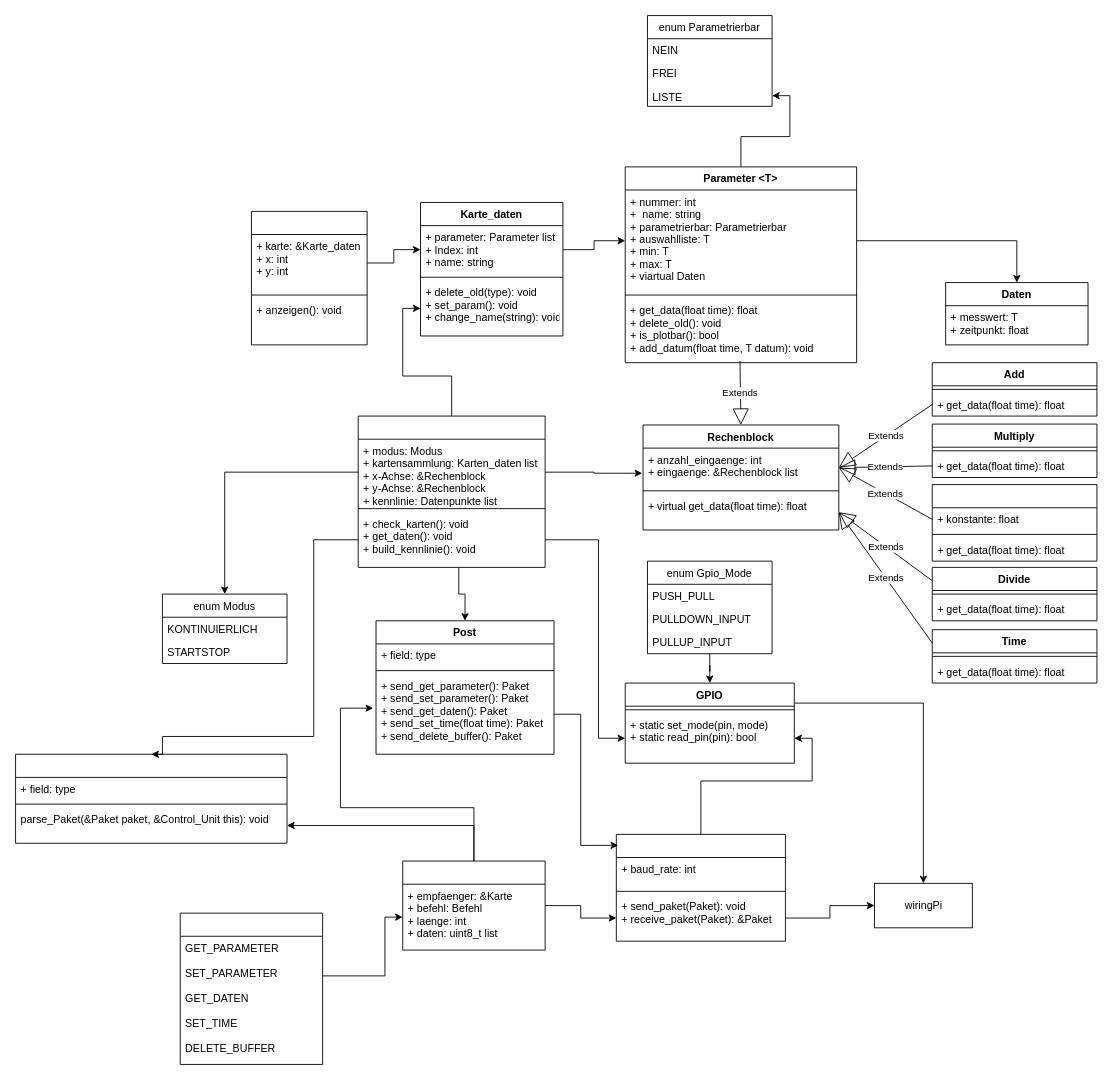
The diagram is 1113 pixels wide and 1082 high, and some of its shapes have lost their labels. The shapes that lost their labels are listed below. From the top down, each one's box as (x1, y1, x2, y2) in pixels, then its label:
(251, 210, 367, 345): Karte_Anzeige
(357, 415, 545, 567): Control_Unit
(931, 484, 1097, 561): Constant
(15, 753, 287, 843): Parser
(402, 860, 545, 950): Paket
(615, 833, 785, 941): SPI
(179, 912, 323, 1064): enum Befehl
